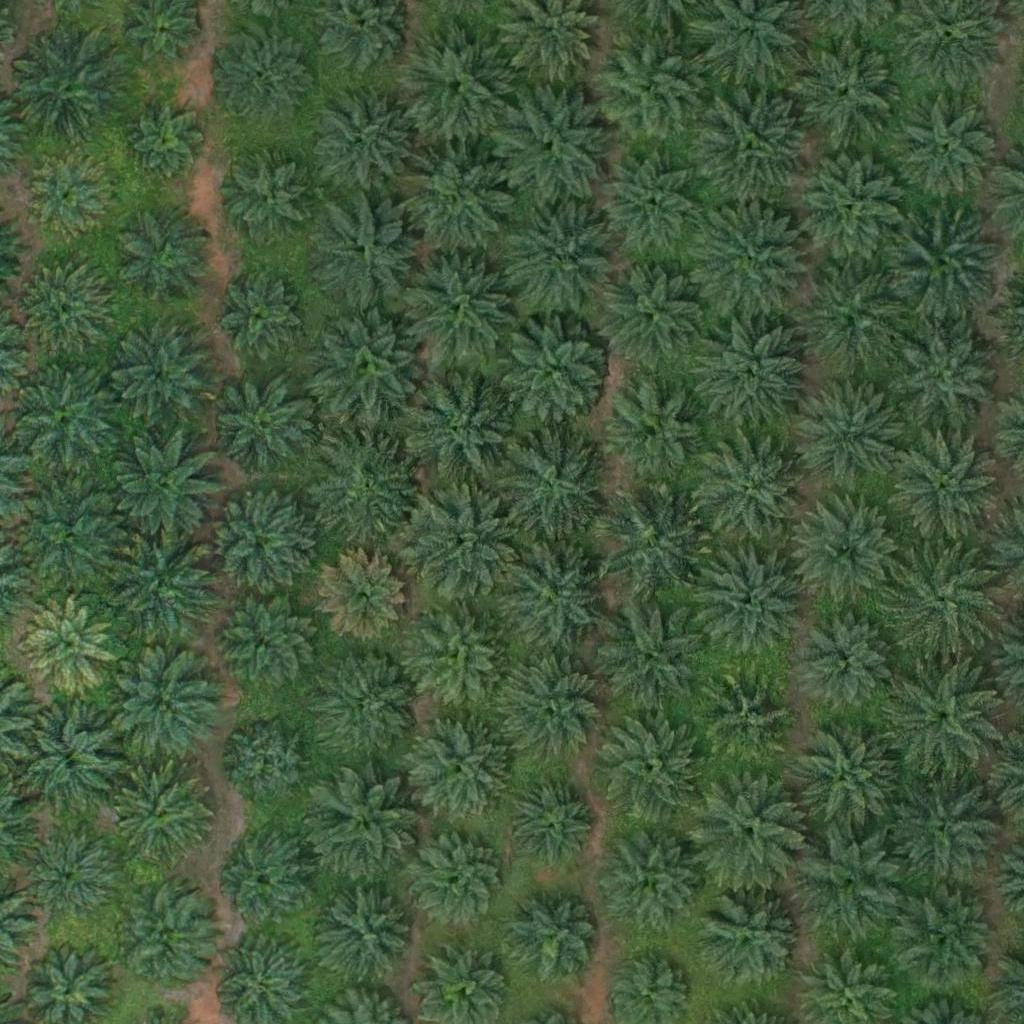Kelapa_Sawit: (10, 358, 123, 472), (16, 484, 129, 598), (108, 429, 221, 543), (591, 30, 704, 144), (696, 88, 809, 202), (696, 206, 809, 320), (795, 262, 908, 376), (796, 377, 909, 491), (105, 652, 218, 766), (305, 83, 418, 196), (311, 196, 424, 309), (311, 310, 424, 423), (401, 251, 514, 364), (403, 377, 516, 490), (406, 487, 519, 600), (692, 319, 805, 432), (699, 437, 812, 550), (792, 496, 905, 609), (887, 663, 1000, 776), (886, 768, 999, 881), (789, 717, 902, 830), (498, 540, 611, 653), (106, 527, 219, 640), (797, 152, 909, 266), (889, 317, 1001, 431), (888, 434, 1000, 548), (14, 701, 126, 815), (14, 36, 126, 149), (312, 432, 424, 545), (397, 29, 509, 142), (400, 145, 512, 258), (499, 89, 611, 202), (505, 201, 617, 314), (499, 313, 611, 426), (494, 426, 606, 539), (598, 256, 710, 369), (595, 486, 707, 599), (791, 34, 903, 147), (889, 210, 1001, 323), (883, 543, 995, 656), (795, 824, 907, 937), (693, 773, 805, 886), (592, 712, 704, 825), (692, 540, 804, 653), (596, 599, 708, 712), (314, 775, 426, 888), (116, 202, 216, 303), (111, 327, 211, 428), (217, 152, 317, 253), (210, 375, 310, 476), (607, 379, 707, 480), (899, 99, 999, 200), (901, 889, 1001, 990), (700, 888, 800, 989), (603, 832, 703, 933), (500, 654, 600, 755), (411, 605, 511, 706), (218, 591, 318, 692), (320, 651, 420, 752), (214, 26, 314, 126), (210, 491, 310, 591), (602, 157, 702, 257), (410, 717, 510, 817), (408, 828, 508, 928), (112, 767, 212, 867), (116, 899, 216, 999), (703, 674, 791, 763), (23, 155, 111, 243), (124, 95, 212, 183), (214, 271, 302, 359), (318, 552, 406, 640), (21, 831, 109, 919), (324, 888, 412, 976), (23, 260, 110, 348), (505, 778, 592, 866), (511, 897, 598, 985), (804, 617, 891, 705), (25, 597, 112, 685), (226, 719, 313, 807), (227, 837, 314, 925)
